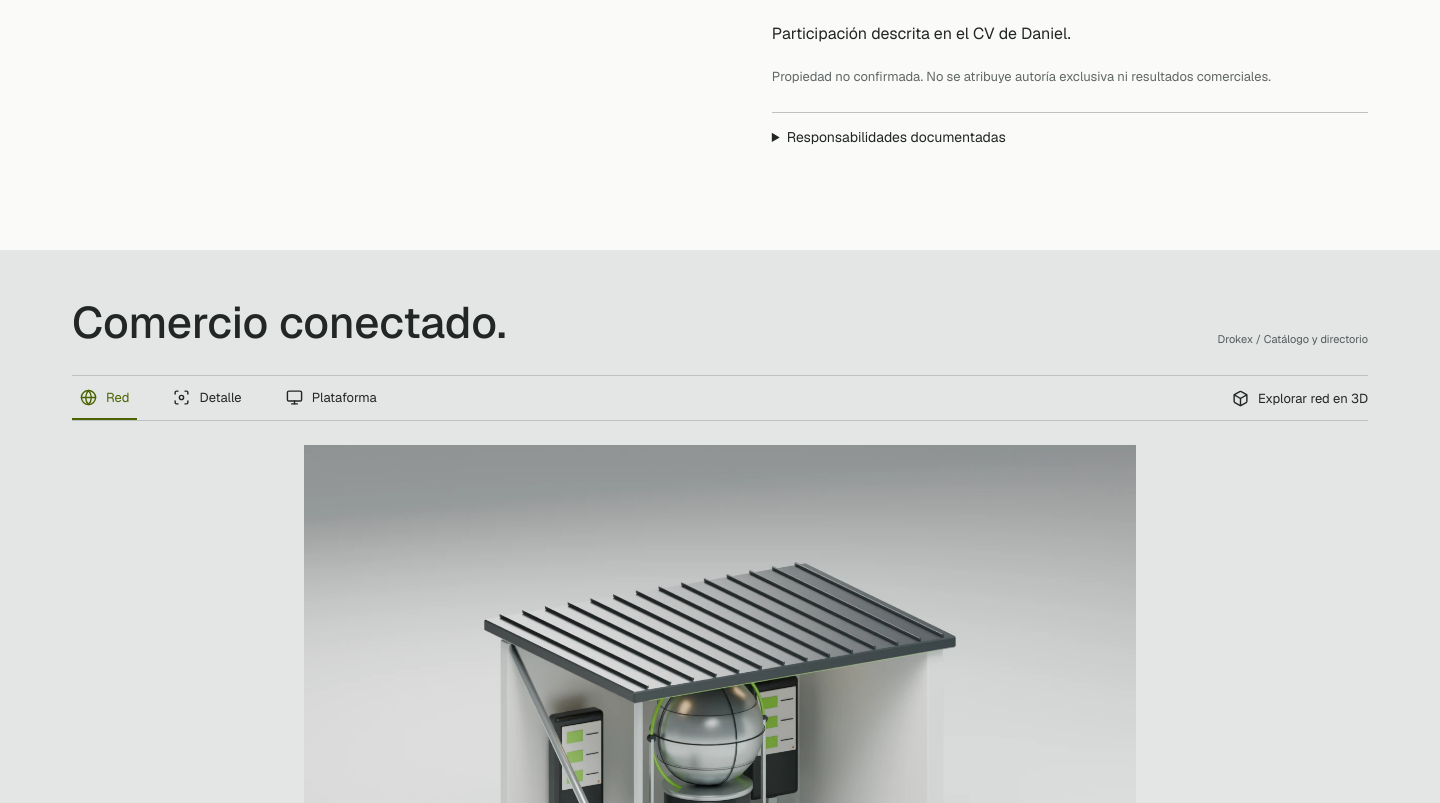
Scenario: Drokex case › keeps the platform accessible without WebGL
(page scrolled)
Click the button "Explorar red en 3D" at (1300, 398), box [1232, 376, 1368, 420]
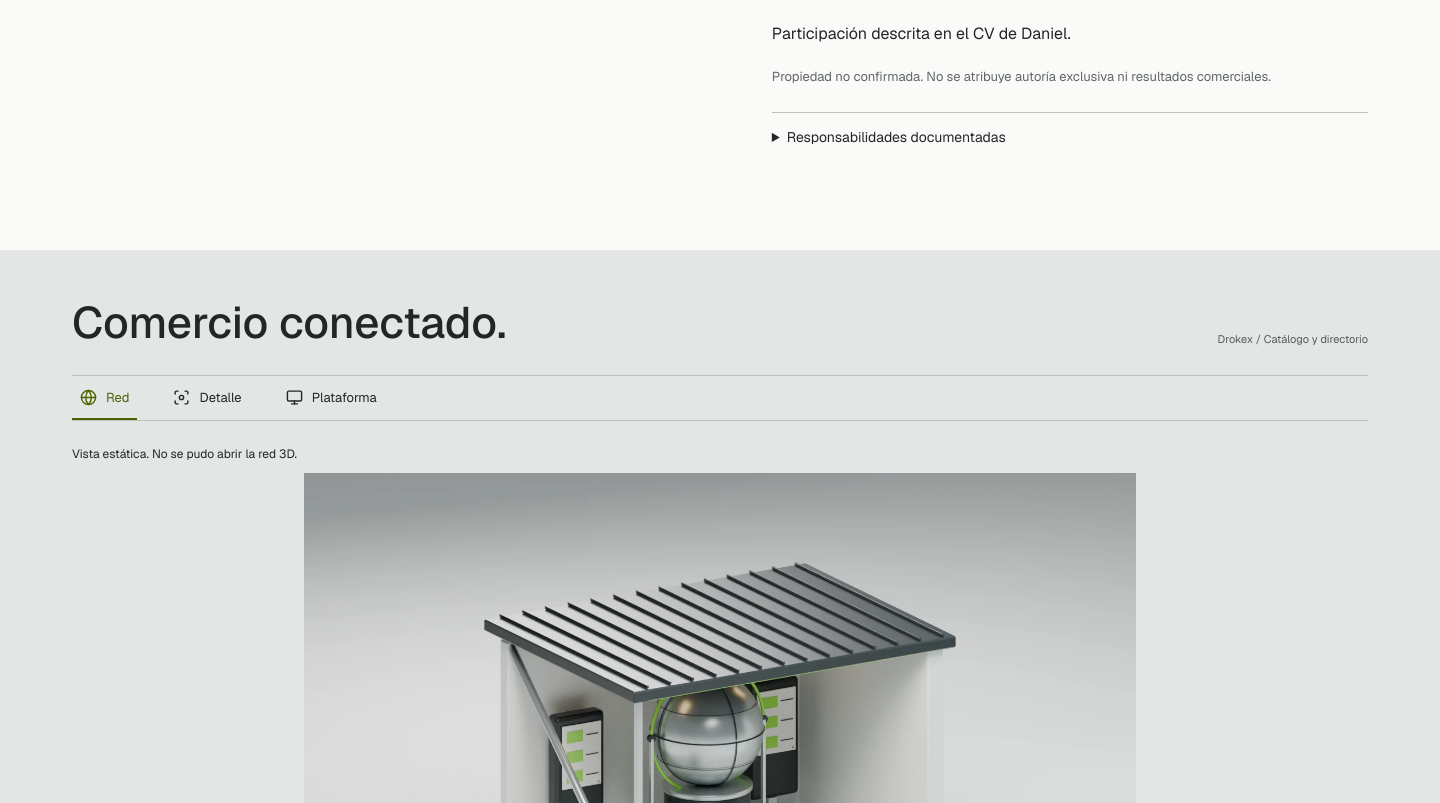
Expected: the message shows "Vista estática", [72, 446, 297, 462]
Click the button "Plataforma" at (331, 398), box [278, 376, 385, 420]
(page scrolled)
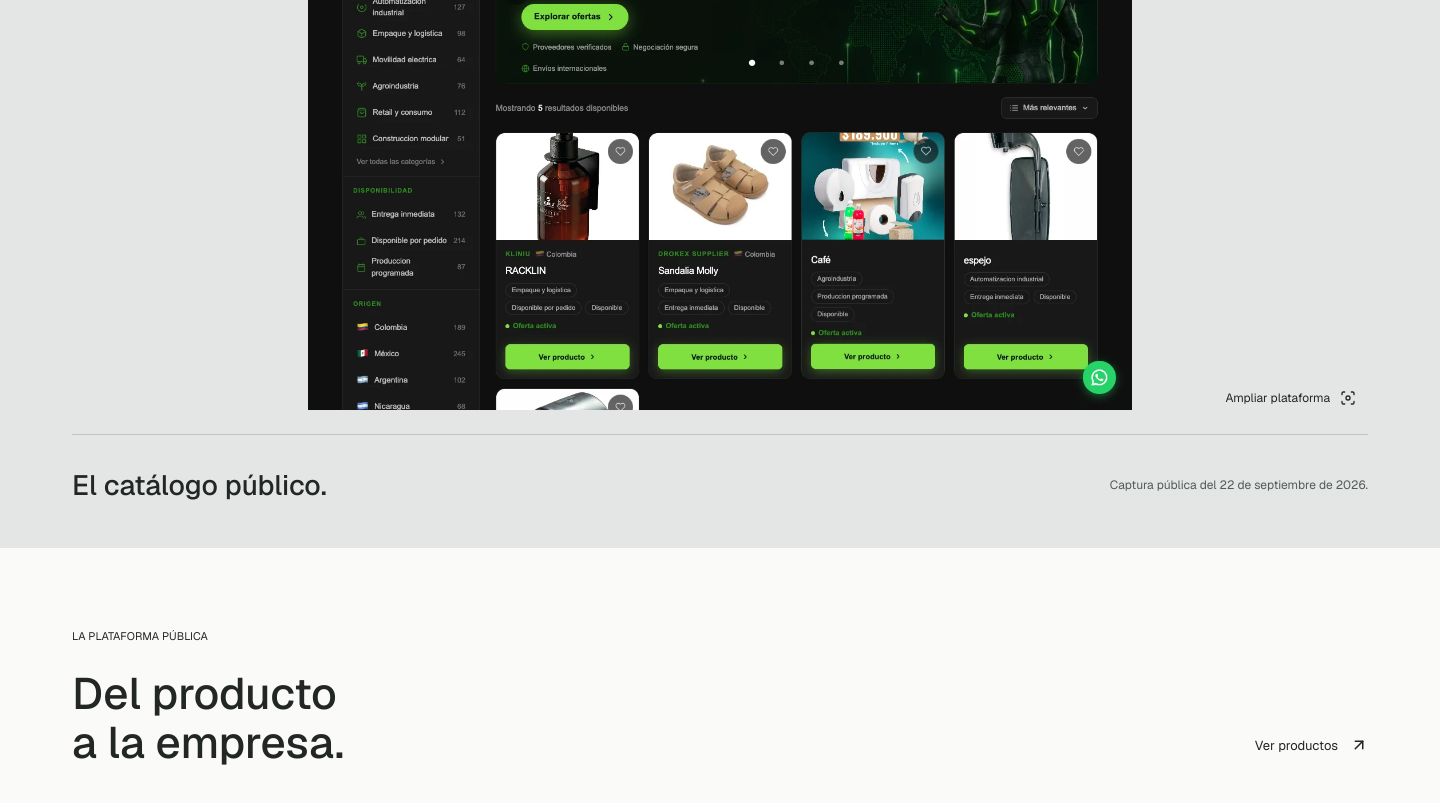
Expected: the link "Ampliar plataforma" is shown, [1214, 376, 1368, 420]
